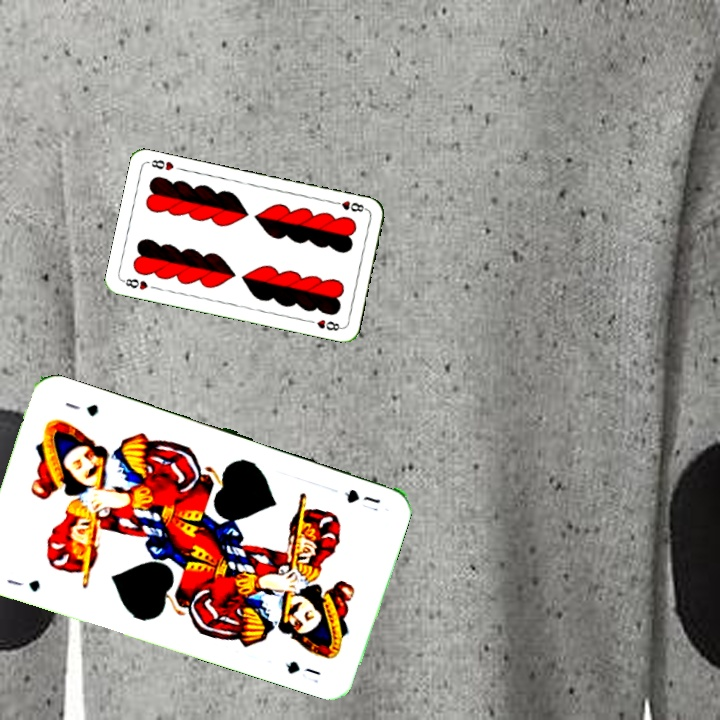GU: (340, 485, 383, 506), (2, 575, 43, 595)
H8: (329, 197, 369, 215), (119, 274, 150, 292)
